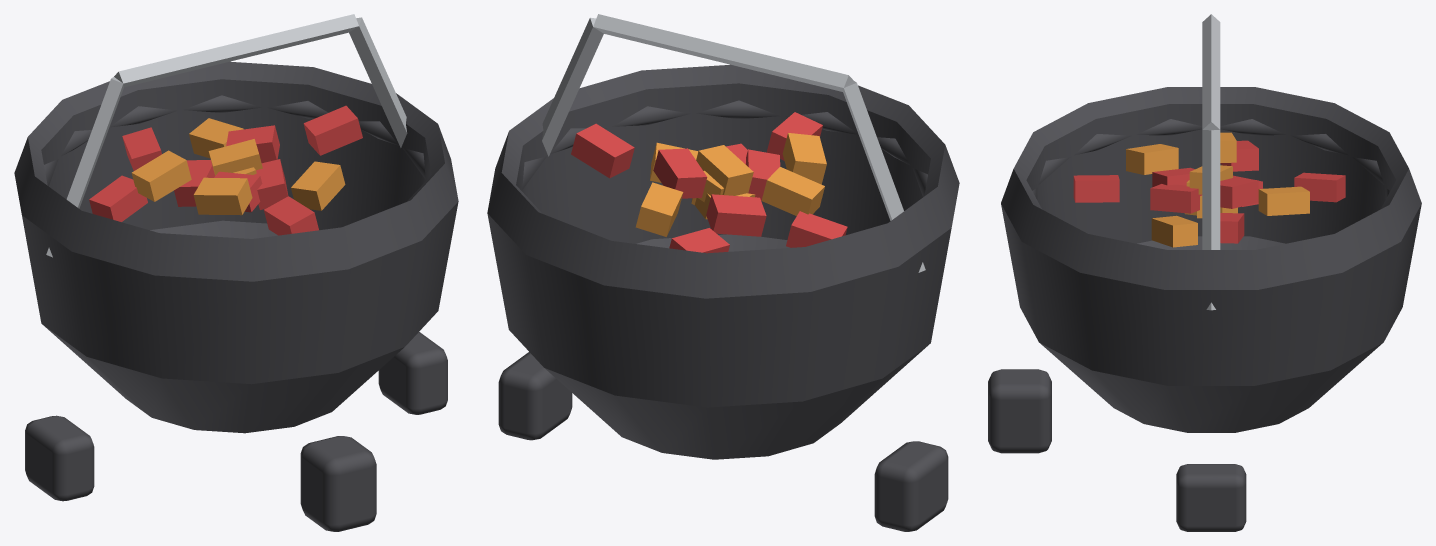
File: halloween-slasher-street-plastic-cauldron-a82b3990__27312.glb
The picture shows the model from 3 angles, left to right: view 1: azimuth 30°, elevation 25°; view 2: azimuth 150°, elevation 25°; view 3: azimuth 270°, elevation 25°; orthographic projection. The views are drawn at different scales.
Parts seen in each view (by area): view 1: plastic-cauldron; view 2: plastic-cauldron; view 3: plastic-cauldron.
Part boxes in pixels (<box>): plastic-cauldron: <box>14,14,458,531</box>; plastic-cauldron: <box>487,14,959,531</box>; plastic-cauldron: <box>988,14,1421,531</box>.
Bounding box in the file's own units: 0.67 × 0.654 × 0.68.
